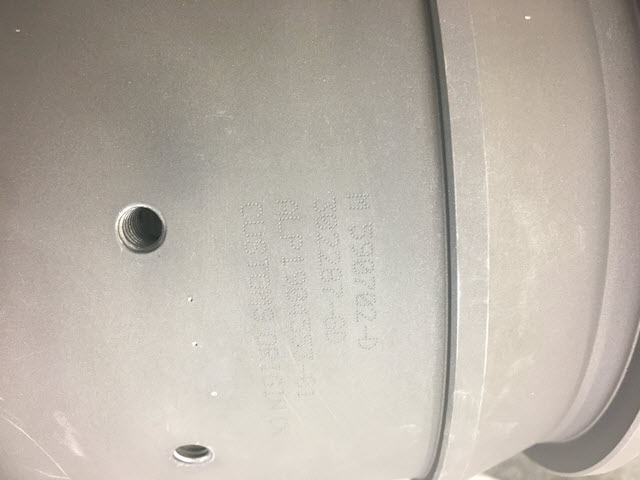character: (342, 189, 375, 214), (347, 218, 377, 242), (272, 196, 305, 217), (272, 215, 306, 235), (311, 232, 343, 252), (237, 219, 268, 239), (240, 238, 272, 257), (310, 196, 341, 215), (236, 201, 267, 220), (248, 307, 279, 326), (245, 288, 274, 308), (349, 255, 377, 275), (244, 272, 275, 290), (348, 239, 377, 258), (279, 268, 309, 286), (318, 266, 346, 285), (244, 255, 272, 274), (311, 214, 340, 232), (316, 249, 343, 268), (285, 317, 313, 335), (352, 323, 383, 339), (283, 285, 309, 304), (276, 234, 304, 251), (351, 273, 377, 291), (322, 312, 348, 330), (322, 330, 351, 346), (319, 300, 346, 316), (354, 307, 379, 324), (354, 338, 382, 353), (283, 303, 313, 317), (353, 291, 377, 308), (321, 282, 345, 299), (279, 254, 305, 268)
